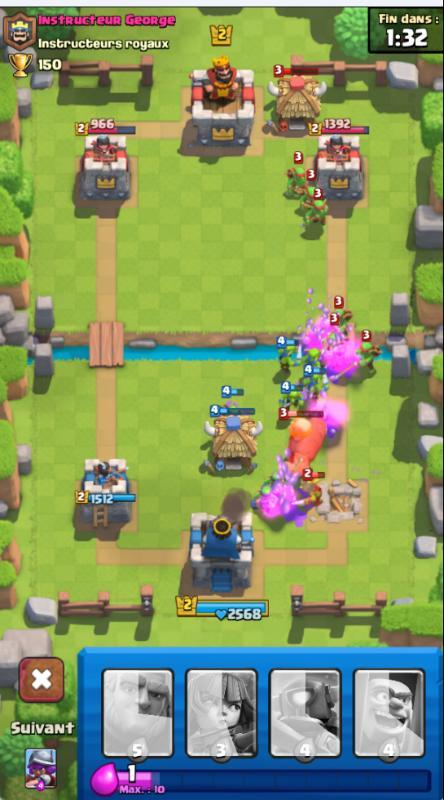enemy_gaint: (276, 407, 335, 473)
enemy_goblin_hut: (199, 405, 264, 479), (263, 64, 329, 135)
enemy_goblins: (291, 466, 331, 516)
enemy_spear_goblins: (294, 187, 332, 225), (281, 162, 314, 197), (328, 297, 355, 335), (354, 338, 381, 376)
player_goblins: (301, 362, 329, 399), (275, 337, 303, 374)
player_spear_goblins: (275, 383, 303, 420)
